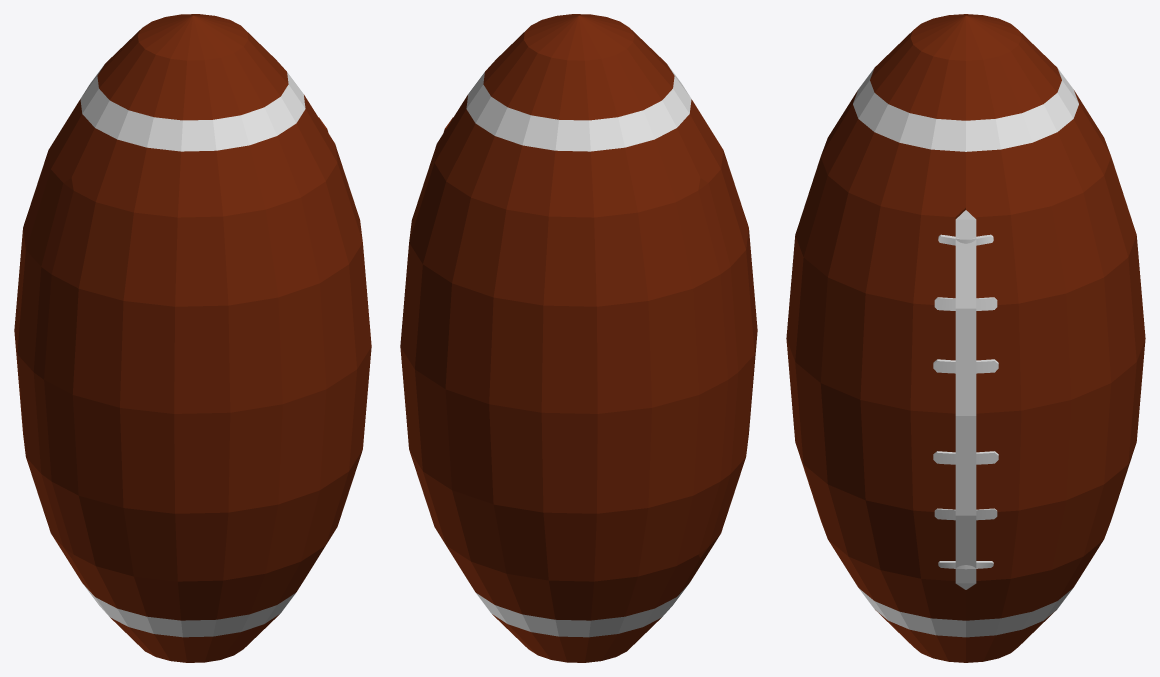
The model's file is American Soccer.fbx.
3 views of the same model, side by side, from view 1: azimuth 30°, elevation 25°; view 2: azimuth 150°, elevation 25°; view 3: azimuth 270°, elevation 25° (orthographic).
Visible parts, largest first — view 1: Sphere; view 2: Sphere; view 3: Sphere, Sphere_1.
Boxes of the visible parts, bbox=[...] form: Sphere: bbox=[14, 14, 371, 662]; Sphere: bbox=[400, 14, 757, 662]; Sphere: bbox=[786, 14, 1145, 662]; Sphere_1: bbox=[933, 234, 998, 569].
Bounding box in the file's own units: 79.46 × 157 × 79.
